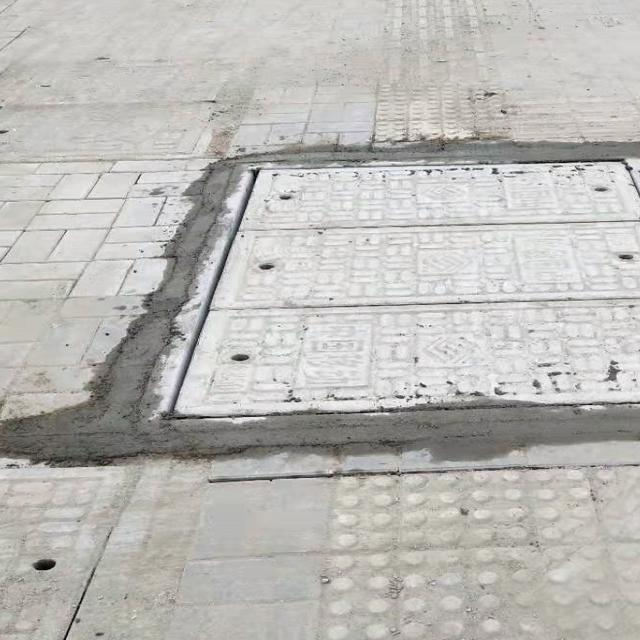good: (179, 161, 640, 403)
